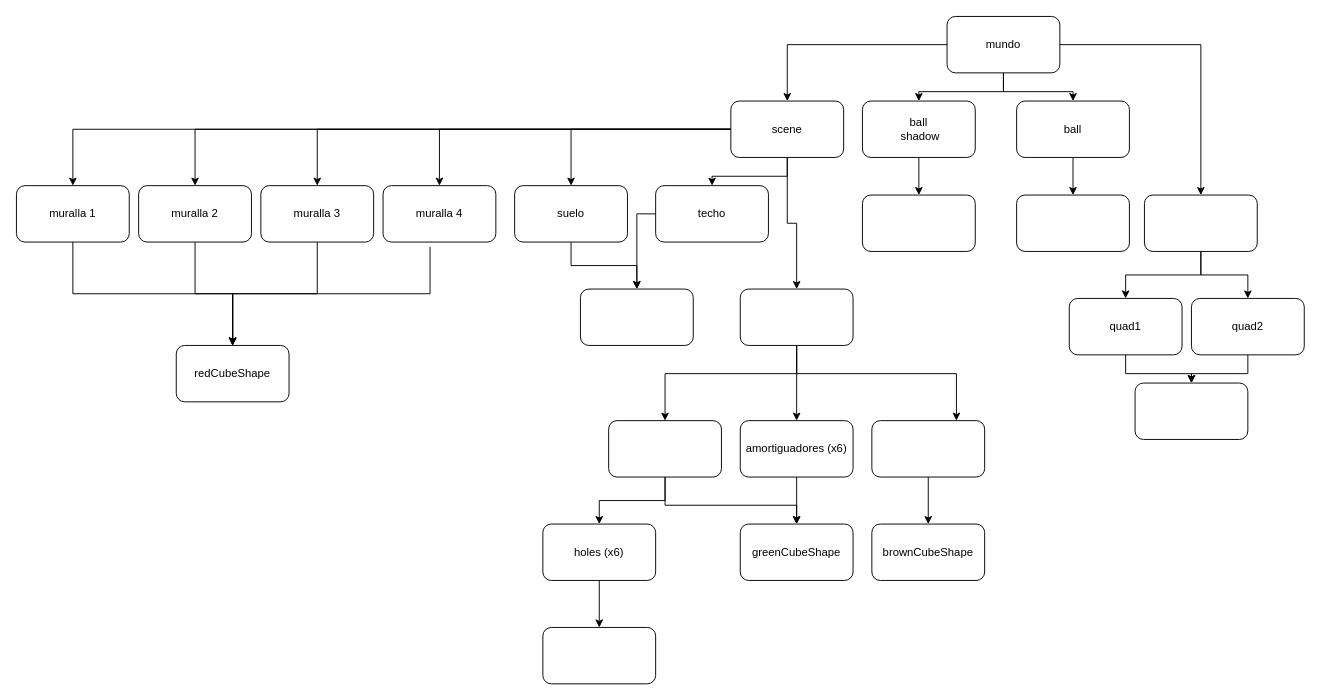
Image size: 1321x700. Some labels were removed from this diagram. Here are the shapes that lost their labels. From the top down, the centre of each, then its label:
At [918,222]: "circle shape".
At [1072,222]: "esfera con textura".
At [1200,222]: "taco".
At [636,316]: "grayCubeShape".
At [796,316]: "mesa".
At [1191,410]: "texQuadShape".
At [664,448]: "field".
At [928,448]: "bordes (x4)".
At [599,655]: "blackCircleShape".
